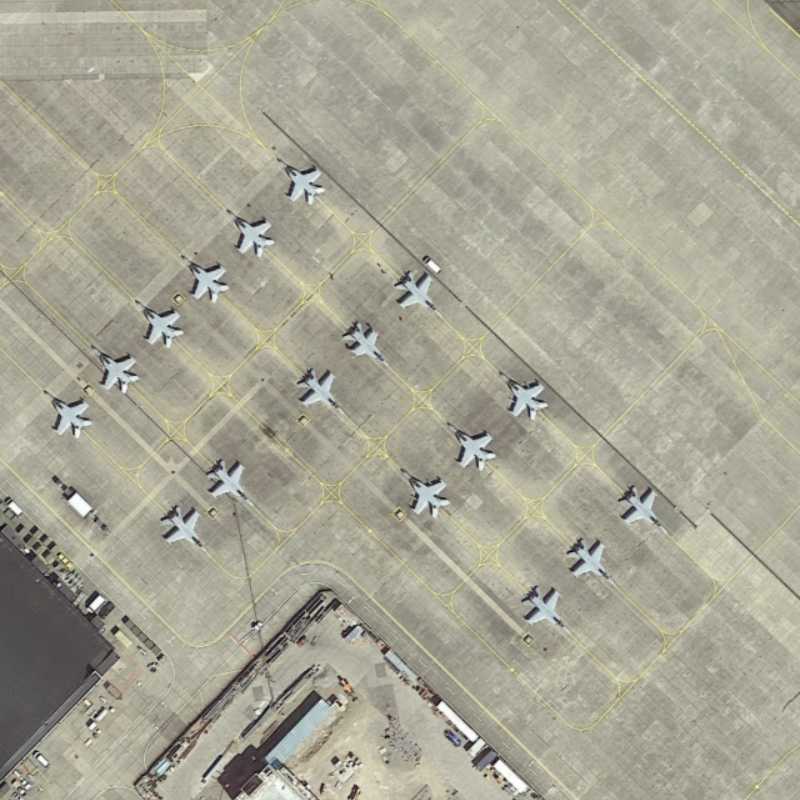A16: (564, 534, 618, 591), (295, 366, 351, 420), (495, 368, 552, 421), (399, 466, 453, 521), (618, 483, 672, 538), (273, 154, 329, 207), (222, 206, 278, 259), (176, 253, 233, 305), (88, 343, 142, 397), (157, 503, 211, 557), (520, 584, 574, 638), (392, 267, 445, 322), (203, 458, 258, 510), (133, 297, 187, 349), (342, 318, 393, 371), (447, 420, 498, 473), (42, 389, 94, 440)
